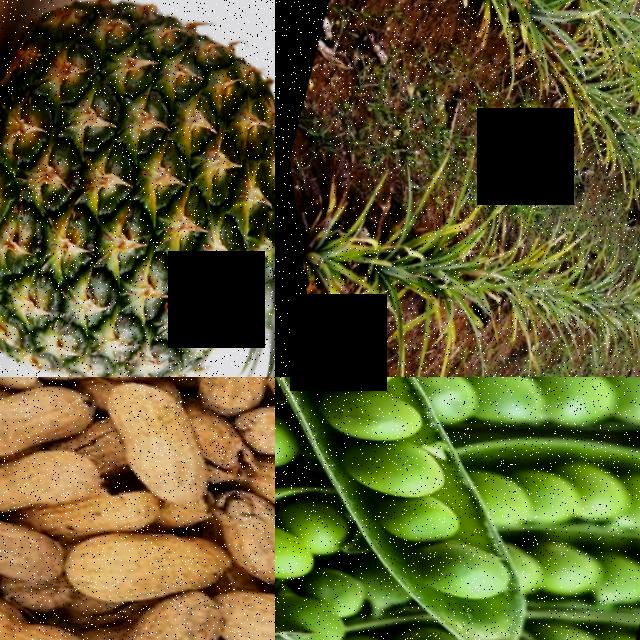peanuts: (99, 417, 214, 523), (0, 437, 100, 528), (83, 577, 220, 640), (0, 482, 60, 612), (0, 575, 113, 640), (155, 377, 275, 427), (194, 576, 275, 640), (40, 377, 184, 408), (0, 378, 33, 475)
peas: (275, 381, 544, 640), (401, 377, 640, 499), (275, 484, 330, 640)
pineapple: (0, 0, 275, 377)
